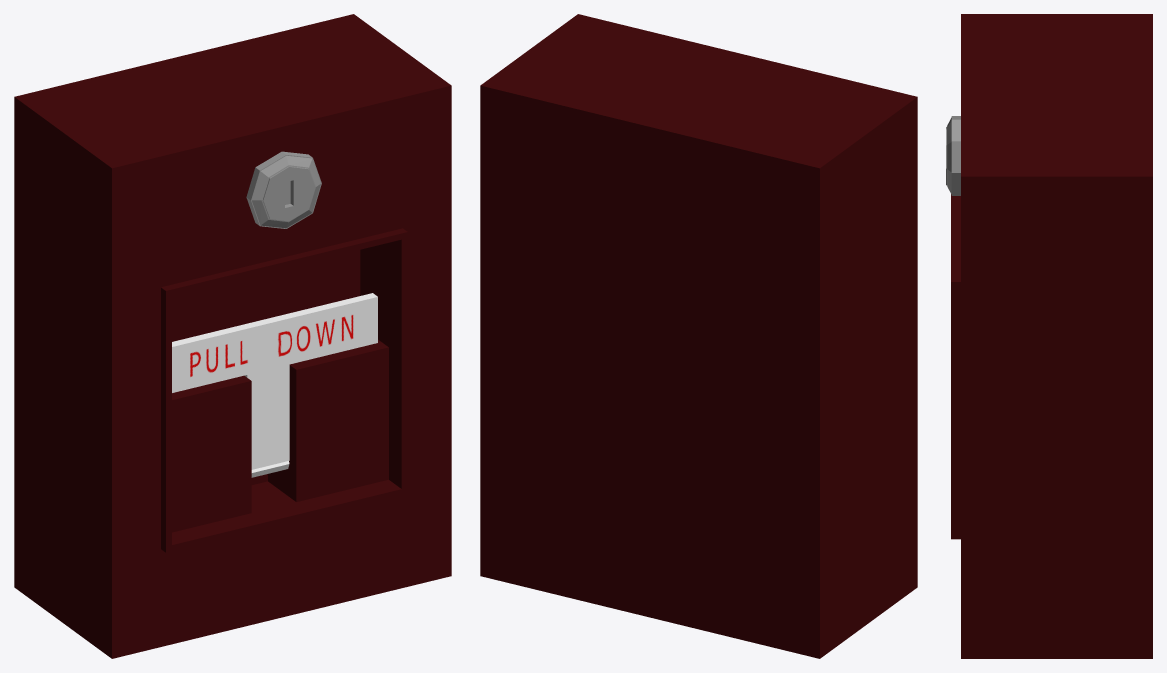
Rendered from fire alarm.obj.
3 views of the same model, side by side, from view 1: azimuth 30°, elevation 25°; view 2: azimuth 150°, elevation 25°; view 3: azimuth 270°, elevation 25° (orthographic).
Size of the model in its own units: 1.55 by 2.14 by 0.8327.
Materials: 4 (1 with a texture image).
